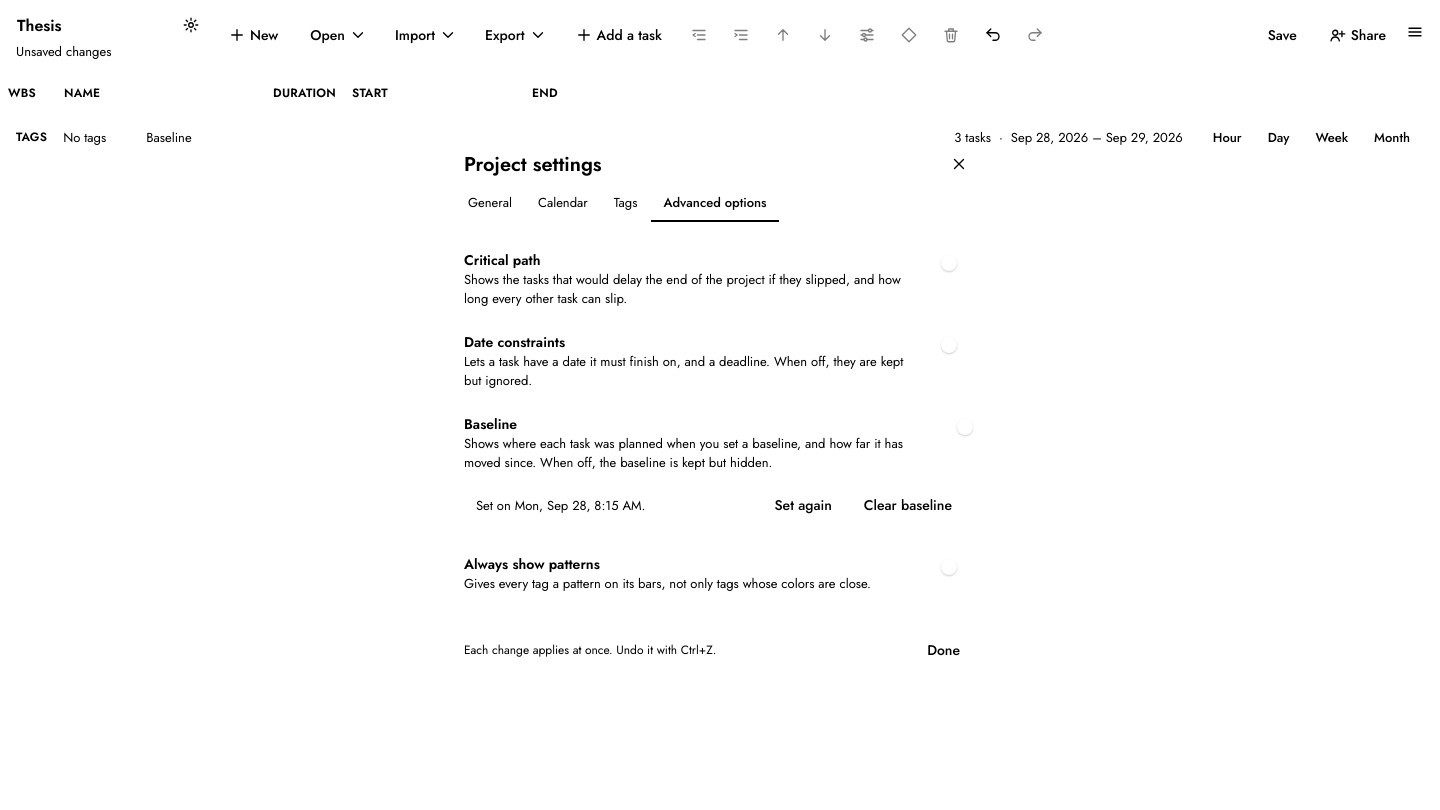
the baseline in the Advanced options tab › closes the question when its dialog is closed, and hides the strip once the baseline is turned off
Click the 3rd switch at coordinates (957, 427), box [938,416,976,438]
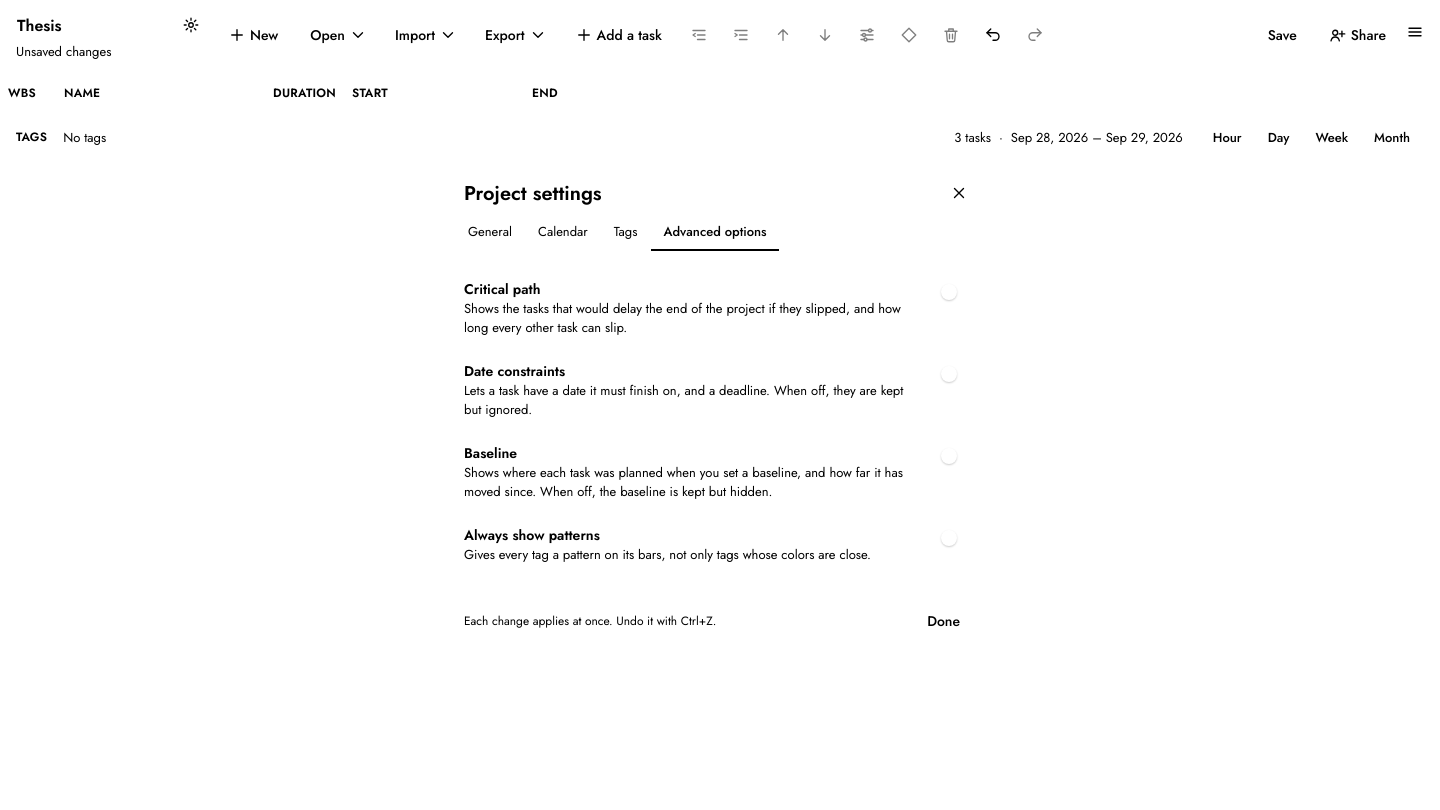
Now no elements with class "baseline" are shown
